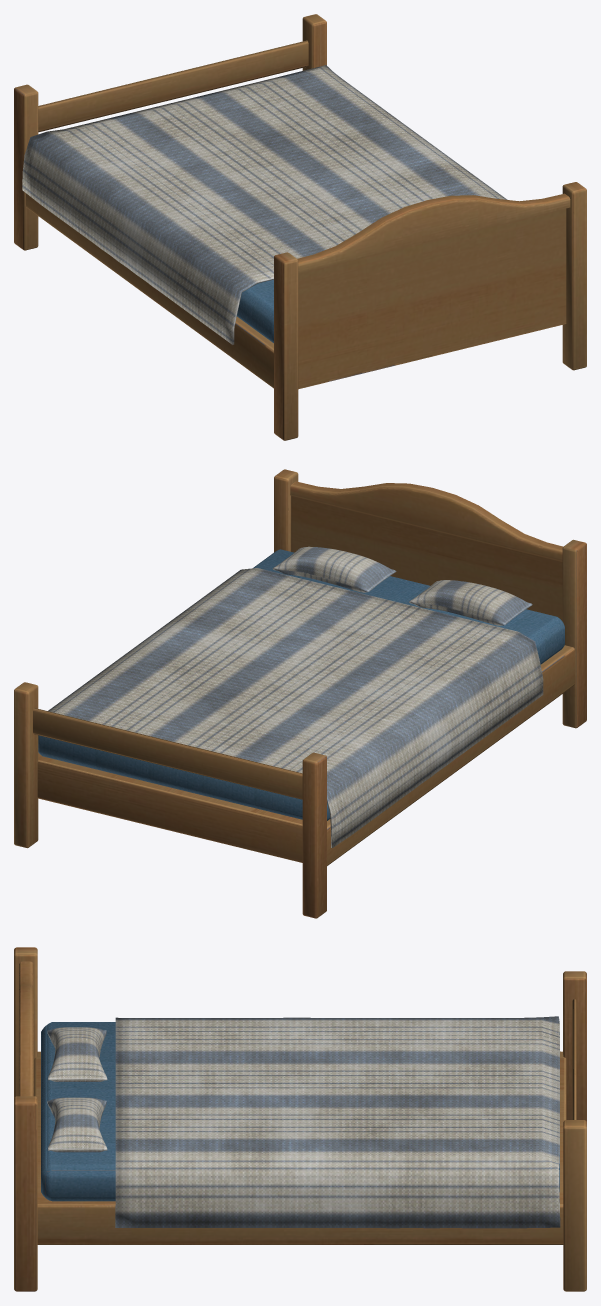
The model's file is bed.glb.
3 views of the same model, one above another, from view 1: azimuth 30°, elevation 25°; view 2: azimuth 150°, elevation 25°; view 3: azimuth 270°, elevation 25° (orthographic). The views are drawn at different scales.
Parts seen in each view (by area): view 1: bed; view 2: bed; view 3: bed.
Boxes of the visible parts, x1,y1,x2,y2 form: bed: (14, 14, 586, 440); bed: (14, 469, 586, 918); bed: (14, 947, 586, 1291).
Bounding box in the file's own units: 2.17 × 1.33 × 3.27.
1 material, 1 textured.
